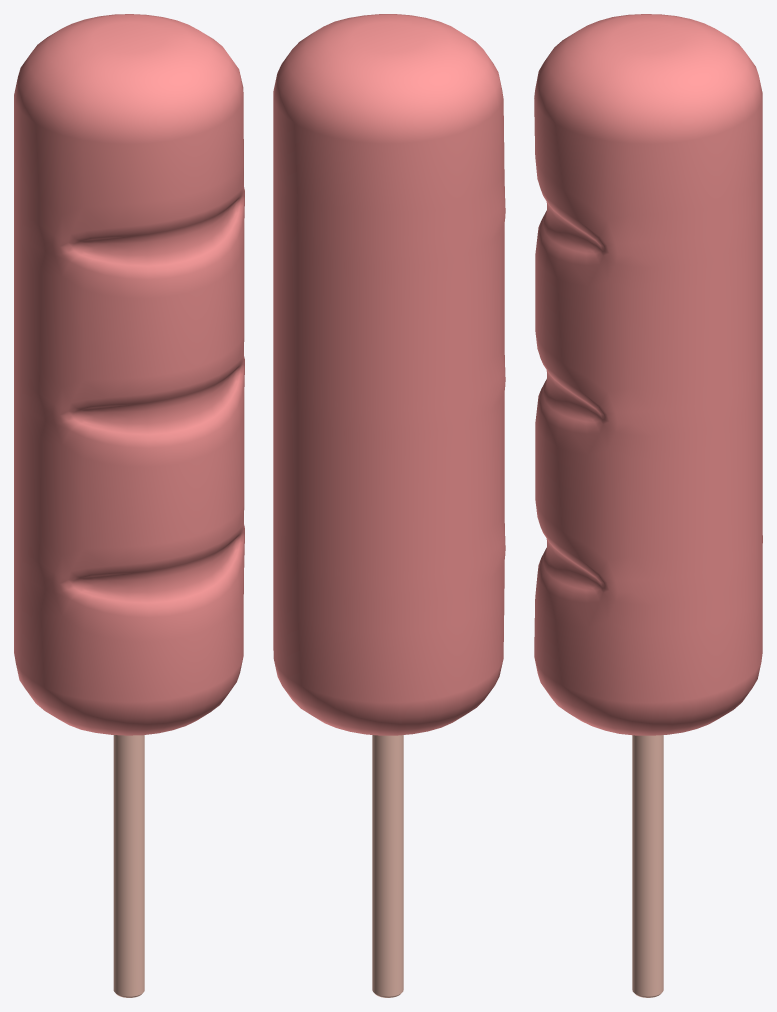
The model's file is Store_12_Sausage_1.glb.
The picture shows the model from 3 angles, left to right: view 1: azimuth 30°, elevation 25°; view 2: azimuth 150°, elevation 25°; view 3: azimuth 270°, elevation 25°; orthographic projection.
Parts seen in each view (by area): view 1: Store_12_Sausage_1; view 2: Store_12_Sausage_1; view 3: Store_12_Sausage_1.
Boxes of the visible parts, x1=… form: Store_12_Sausage_1: x1=14, y1=14, x2=244, y2=997; Store_12_Sausage_1: x1=273, y1=14, x2=505, y2=997; Store_12_Sausage_1: x1=534, y1=14, x2=762, y2=997.
Bounding box in the file's own units: 0.1268 × 0.5782 × 0.1253.
1 material, 1 textured.
